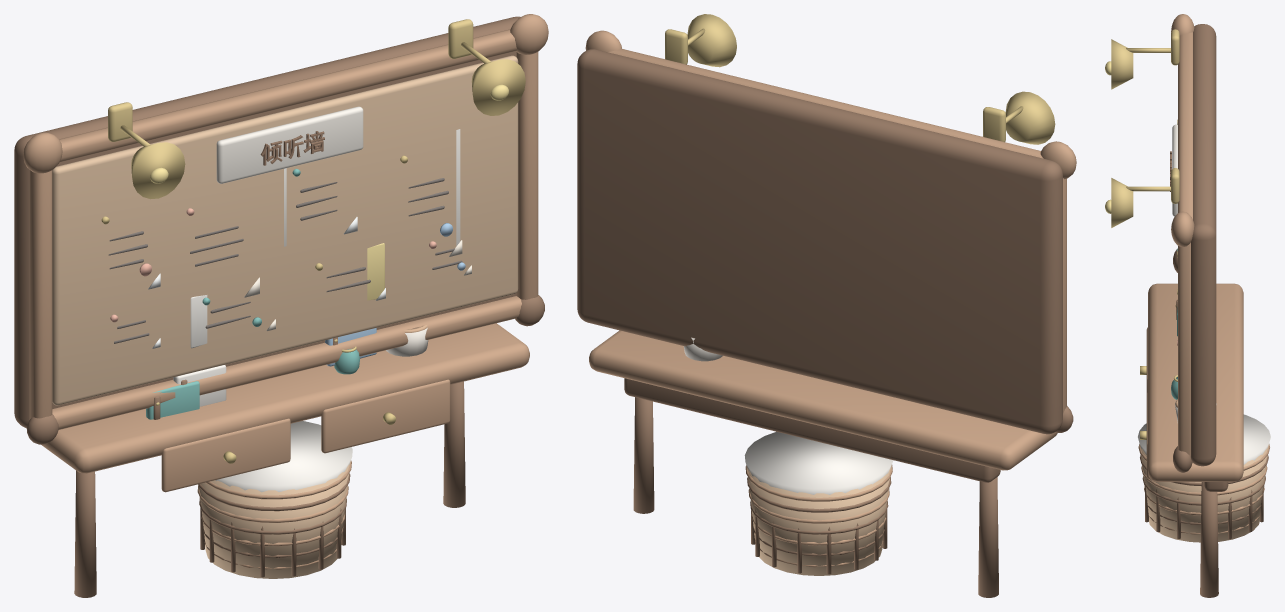
The model's file is civic-notice-console.glb.
3 renders of one model, left to right at view 1: azimuth 30°, elevation 25°; view 2: azimuth 150°, elevation 25°; view 3: azimuth 270°, elevation 25°, orthographic. The views are drawn at different scales.
Parts seen in each view (by area): view 1: NoticeCork, NoticeConsoleTop, NoticeFrame, NoticeTopRail, NoticeBottomRail, NoticeBasketCore, NoticeSideRail_-1.37, NoticeTitle, NoticeDrawer_-1, NoticeDrawer_1, NoticeSideRail_1.37, NoticeBasketLiner (+17 smaller); view 2: NoticeFrame, NoticeConsoleTop, NoticeBasketCore, NoticeBasketLiner, NoticeConsoleApron, NoticeTopRail, NoticeConsoleLeg_-1.04, NoticeConsoleLeg_1.04, NoticeLampShade_-1, NoticeLampShade_1, NoticeSideRail_-1.37, NoticeRailFinial_-1.37 (+4 smaller); view 3: NoticeConsoleTop, NoticeFrame, NoticeBasketCore, NoticeSideRail_1.37, NoticeTopRail, NoticeConsoleLeg_1.04, NoticeBasketLiner, NoticeLampShade_-1, NoticeLampShade_1, NoticeRailFinial_1.37, NoticeBasketRing_5, NoticeBasketRing_4 (+8 smaller).
Boxes of the visible parts, x1,y1,x2,y2 form: NoticeCork: (52,55,518,405); NoticeConsoleTop: (26,323,529,473); NoticeFrame: (14,16,520,428); NoticeTopRail: (59,29,517,162); NoticeBottomRail: (52,296,521,429); NoticeBasketCore: (198,462,350,578); NoticeSideRail_-1.37: (29,170,52,419); NoticeTitle: (216,106,363,183); NoticeDrawer_-1: (161,418,290,492); NoticeDrawer_1: (321,379,450,453); NoticeSideRail_1.37: (516,52,538,299); NoticeBasketLiner: (215,421,352,492); NoticeFrame: (577,49,1062,434); NoticeConsoleTop: (589,330,1057,470); NoticeBasketCore: (747,466,891,575); NoticeBasketLiner: (744,431,893,494); NoticeConsoleApron: (624,378,1000,482); NoticeTopRail: (608,48,1043,158); NoticeConsoleLeg_-1.04: (978,477,998,597); NoticeConsoleLeg_1.04: (633,397,654,513); NoticeLampShade_-1: (1005,91,1055,144); NoticeLampShade_1: (687,14,736,67); NoticeSideRail_-1.37: (1063,178,1066,413); NoticeRailFinial_-1.37: (1040,141,1076,179); NoticeConsoleTop: (1148,283,1243,481); NoticeFrame: (1191,24,1216,466); NoticeBasketCore: (1139,444,1268,542); NoticeSideRail_1.37: (1178,242,1190,457); NoticeTopRail: (1178,32,1192,219); NoticeConsoleLeg_1.04: (1200,482,1218,597); NoticeBasketLiner: (1138,414,1270,464); NoticeLampShade_-1: (1111,39,1133,89); NoticeLampShade_1: (1111,178,1133,227); NoticeRailFinial_1.37: (1171,211,1194,246); NoticeBasketRing_5: (1141,466,1267,495); NoticeBasketRing_4: (1142,476,1265,505).
Size of the model in its own units: 2.95 by 2.7 by 0.9715.
